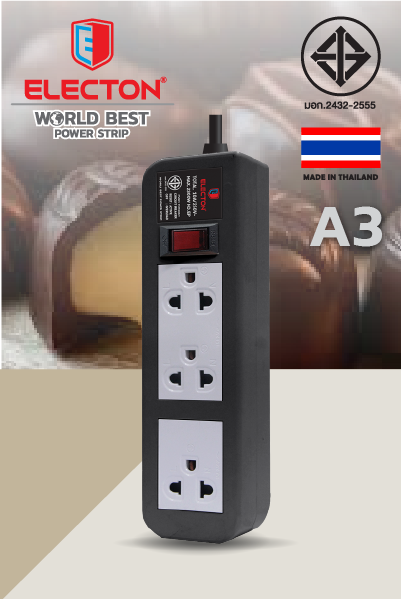Three_eye_plug: (133, 132, 273, 548)
